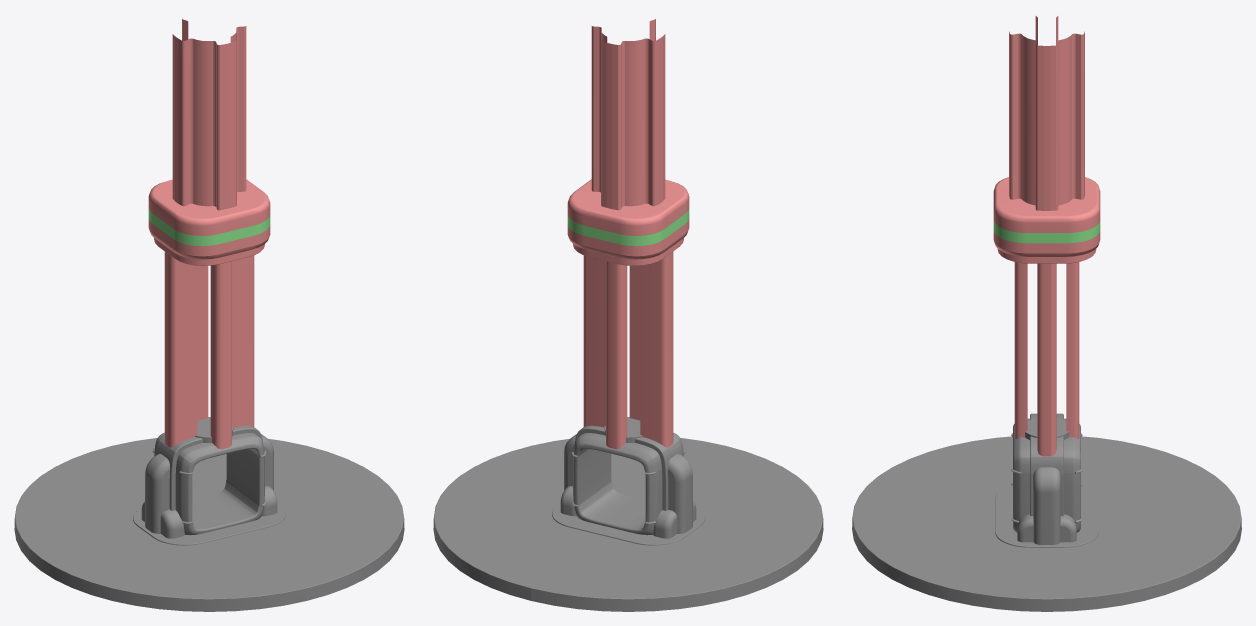
The model's file is PlatformDoubleInteract_01.gltf.
3 renders of one model, left to right at view 1: azimuth 30°, elevation 25°; view 2: azimuth 150°, elevation 25°; view 3: azimuth 270°, elevation 25°, orthographic.
Visible parts, largest first — view 1: PlatformDoubleInteract_01; view 2: PlatformDoubleInteract_01; view 3: PlatformDoubleInteract_01.
Boxes of the visible parts, x1=… form: PlatformDoubleInteract_01: x1=14, y1=19, x2=404, y2=611; PlatformDoubleInteract_01: x1=433, y1=19, x2=823, y2=611; PlatformDoubleInteract_01: x1=852, y1=16, x2=1241, y2=611.
Bounding box in the file's own units: 27.32 × 38.66 × 27.32.
